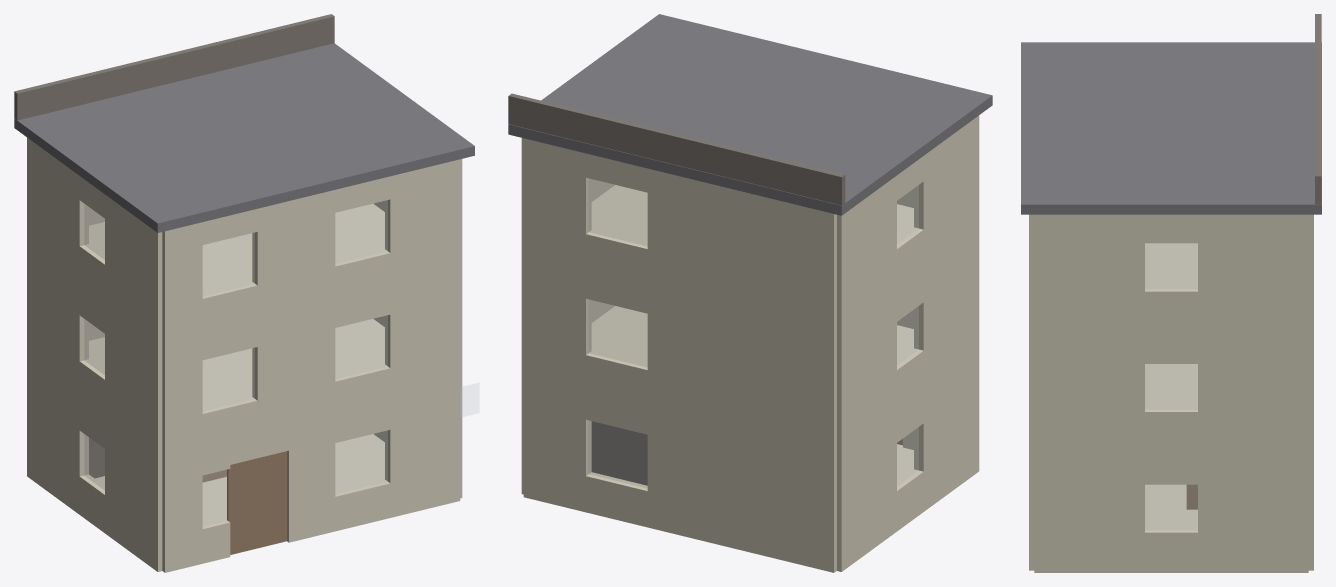
The model's file is house_08.glb.
The picture shows the model from 3 angles, left to right: view 1: azimuth 30°, elevation 25°; view 2: azimuth 150°, elevation 25°; view 3: azimuth 270°, elevation 25°; orthographic projection. The views are drawn at different scales.
Parts seen in each view (by area): view 1: Wall_Front, Roof, Wall_Left, RoofRail, Floor_2, Door_Front, Floor_1, Floor_0, Glass_Front_2, Glass_Front_4, Glass_Front_6, Glass_Front_5 (+7 smaller); view 2: Wall_Back, Wall_Left, Roof, RoofRail, Glass_Back_1, Glass_Back_2, Glass_Back_3, Floor_1, Floor_2, Interior_Wall, Wall_Right, Glass_Left_1 (+2 smaller); view 3: Wall_Right, Roof, Glass_Right_2, Glass_Right_3, Glass_Right_1, Floor_1, Floor_2, Wall_Front, Wall_Back, Floor_0, RoofRail.
Part boxes in pixels (left/top/right/bottom): Wall_Front: left=162, top=159, right=460, bottom=572; Roof: left=14, top=43, right=474, bottom=232; Wall_Left: left=27, top=137, right=162, bottom=571; RoofRail: left=14, top=14, right=334, bottom=120; Floor_2: left=89, top=203, right=384, bottom=293; Door_Front: left=227, top=451, right=286, bottom=554; Floor_1: left=89, top=319, right=384, bottom=408; Floor_0: left=95, top=434, right=384, bottom=523; Glass_Front_2: left=335, top=431, right=387, bottom=493; Glass_Front_4: left=335, top=315, right=387, bottom=378; Glass_Front_6: left=335, top=200, right=387, bottom=263; Glass_Front_5: left=203, top=233, right=254, bottom=295; Wall_Back: left=523, top=138, right=836, bottom=572; Wall_Left: left=837, top=115, right=979, bottom=571; Roof: left=508, top=14, right=992, bottom=215; RoofRail: left=508, top=93, right=845, bottom=205; Glass_Back_1: left=589, top=421, right=647, bottom=487; Glass_Back_2: left=589, top=300, right=647, bottom=366; Glass_Back_3: left=589, top=179, right=647, bottom=245; Floor_1: left=591, top=306, right=913, bottom=364; Floor_2: left=591, top=185, right=913, bottom=243; Interior_Wall: left=591, top=421, right=647, bottom=485; Wall_Right: left=521, top=138, right=614, bottom=494; Glass_Left_1: left=897, top=427, right=918, bottom=485; Wall_Right: left=1034, top=214, right=1308, bottom=572; Roof: left=1021, top=42, right=1321, bottom=214; Glass_Right_2: left=1145, top=364, right=1197, bottom=409; Glass_Right_3: left=1145, top=243, right=1197, bottom=288; Glass_Right_1: left=1145, top=485, right=1197, bottom=529; Floor_1: left=1145, top=364, right=1197, bottom=407; Floor_2: left=1145, top=243, right=1197, bottom=286; Wall_Front: left=1029, top=214, right=1034, bottom=570; Wall_Back: left=1308, top=214, right=1313, bottom=570; Floor_0: left=1145, top=484, right=1197, bottom=527; RoofRail: left=1315, top=14, right=1321, bottom=204.
Size of the model in its own units: 8.95 by 9.95 by 6.78.
